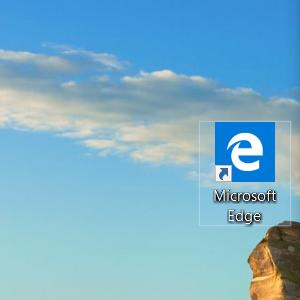edge: (215, 122, 275, 182)
